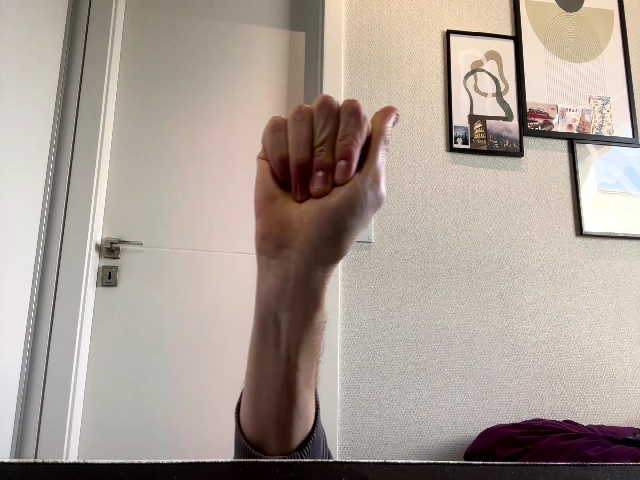A: (254, 94, 401, 263)
